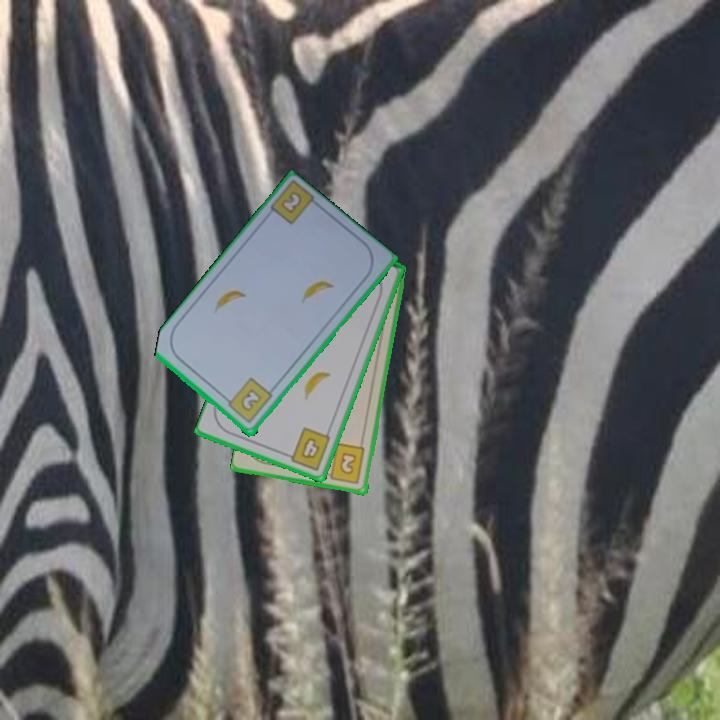2b: (221, 375, 275, 426), (321, 440, 368, 487), (280, 190, 303, 214)
4b: (282, 424, 334, 473)
